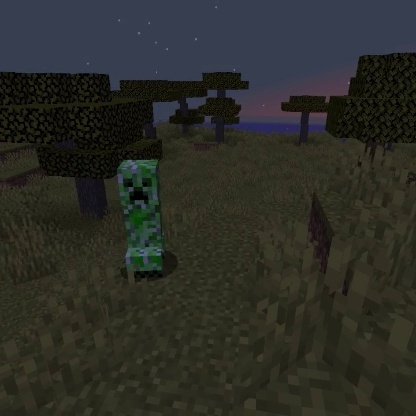creeper: (114, 155, 170, 285)
